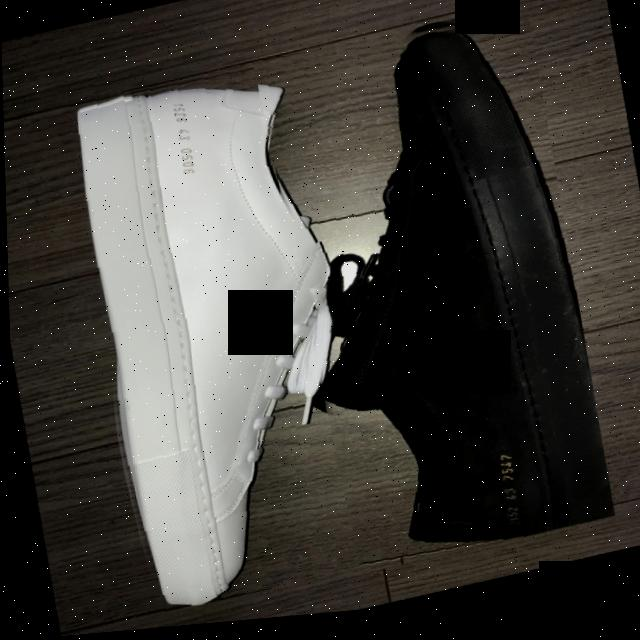shoe: (252, 3, 613, 589), (54, 51, 374, 626)
